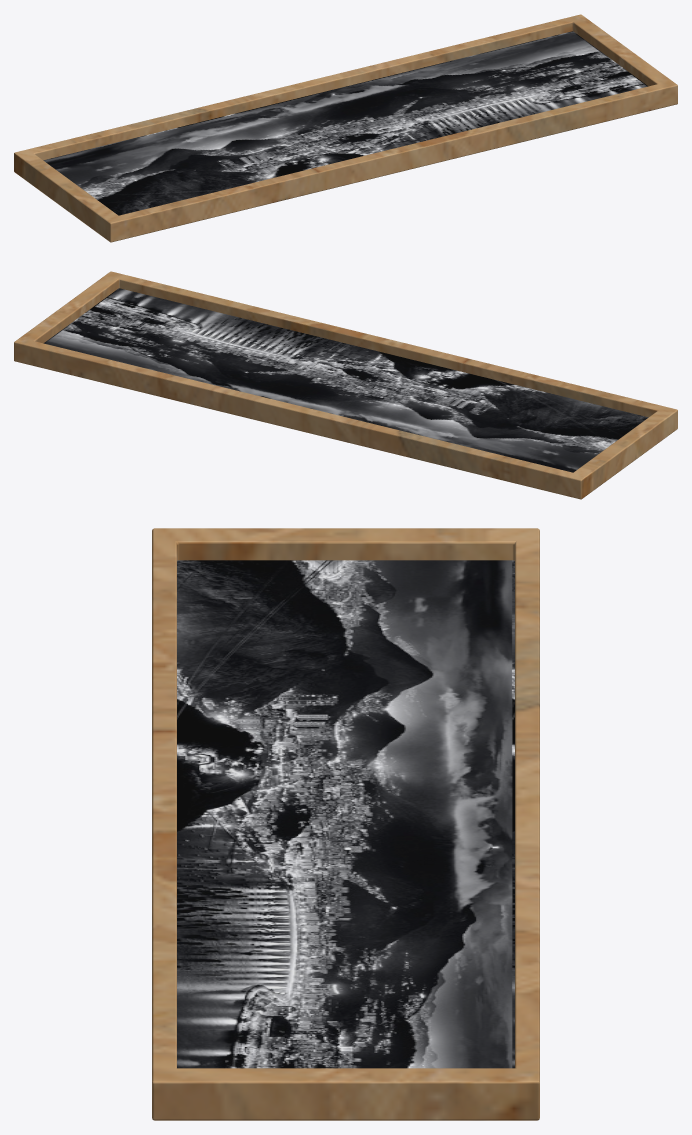
Rendered from QUADRO_01_LANDSCAPE_RJ.fbx.
The picture shows the model from 3 angles, top to bottom: view 1: azimuth 30°, elevation 25°; view 2: azimuth 150°, elevation 25°; view 3: azimuth 270°, elevation 25°; orthographic projection. The views are drawn at different scales.
Parts seen in each view (by area): view 1: Plane.001, Plane; view 2: Plane.001, Plane; view 3: Plane.001, Plane.
Boxes of the visible parts, x1,y1,x2,y2 form: Plane.001: (43, 31, 648, 215); Plane: (14, 14, 677, 242); Plane.001: (43, 288, 648, 472); Plane: (14, 271, 677, 499); Plane.001: (177, 560, 514, 1068); Plane: (152, 528, 539, 1120).
Size of the model in its own units: 388 by 12.87 by 115.
Materials: 2 (2 with a texture image).
